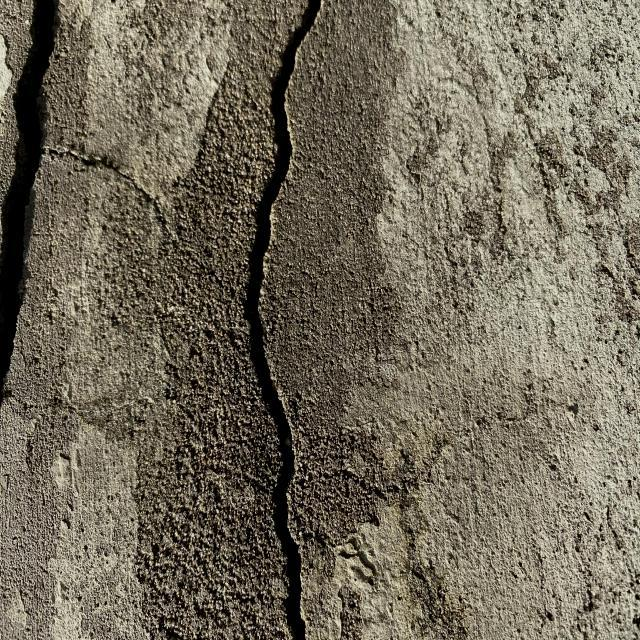SurfaceCrack: (185, 1, 375, 640)
